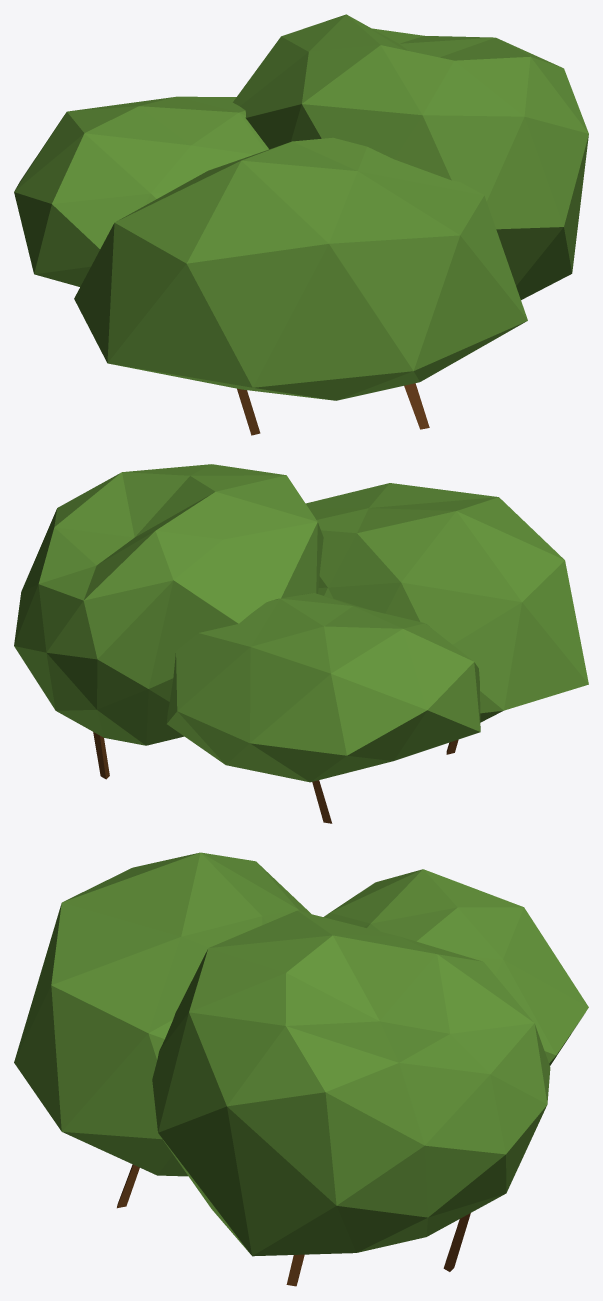
Rendered from suur poosas elav.fbx.
The picture shows the model from 3 angles, top to bottom: view 1: azimuth 30°, elevation 25°; view 2: azimuth 150°, elevation 25°; view 3: azimuth 270°, elevation 25°; orthographic projection. The views are drawn at different scales.
Parts seen in each view (by area): view 1: raagussuur.001; view 2: raagussuur.001; view 3: raagussuur.001.
Boxes of the visible parts, x1,y1,x2,y2 form: raagussuur.001: (14, 14, 588, 435); raagussuur.001: (14, 464, 588, 823); raagussuur.001: (14, 852, 588, 1286).
Size of the model in its own units: 310 by 161 by 279.
